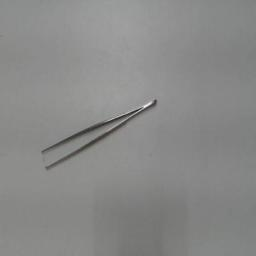Gillies Toothed Dissector: (32, 94, 160, 174)
